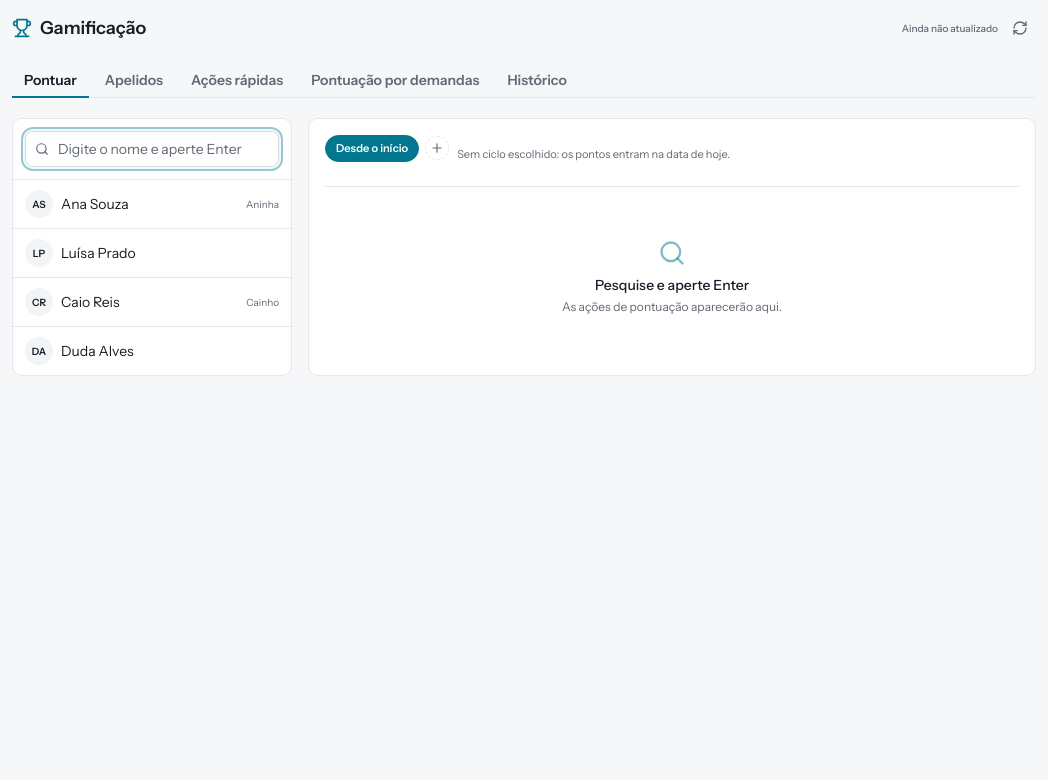
Test case: aba de apelidos › a busca acha o nome sem precisar do acento
Click the button "Apelidos": x=134, y=81 [93, 64, 175, 98]
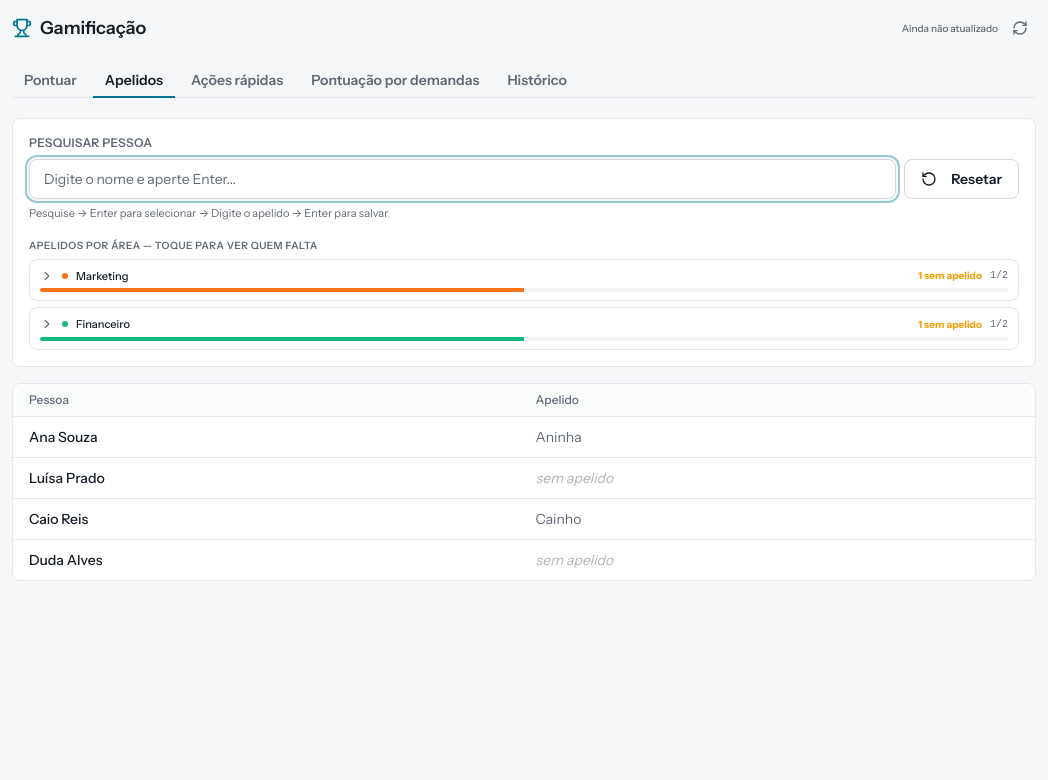
In the field with placeholder "Digite o nome e aperte Enter...": x=463, y=179 [29, 159, 896, 199], type "luisa"
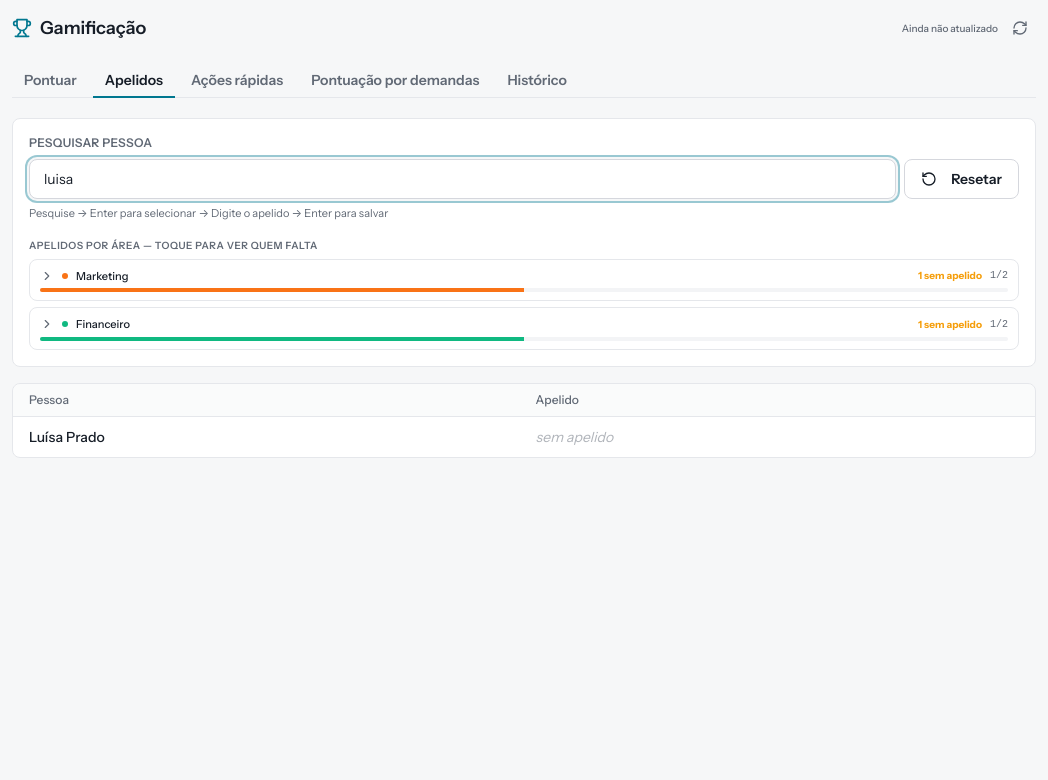
Expected: the text "Luísa Prado" is shown, [13, 416, 520, 456]
Now the text "Ana Souza" is gone
